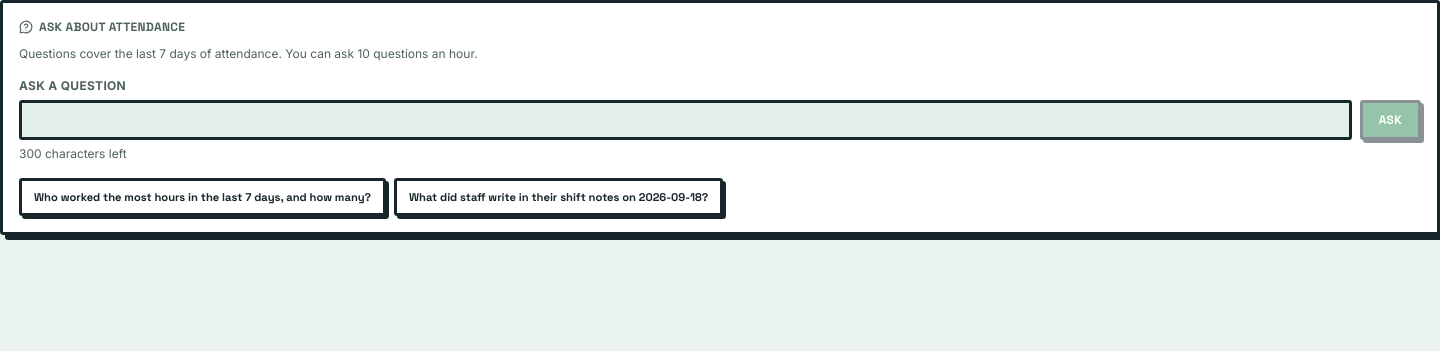
AskCard › renders an answer as plain text with its time and the AI note
Click the button "Who worked the most hours in the last 7 days, and how many?" at (202, 197), box [19,178,386,216]
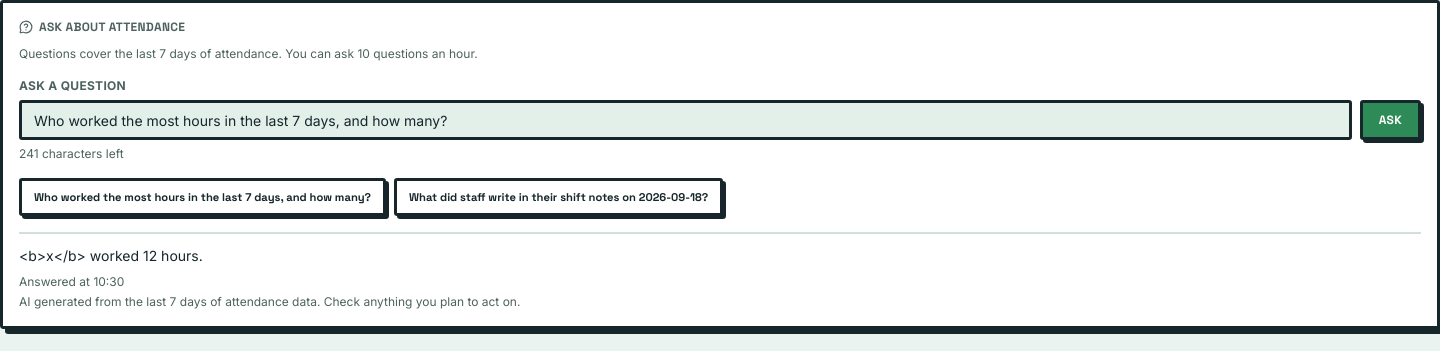
Check: the text "Answered at 10:30" is shown, box [19,274,124,289]
Check: the text "check anything you plan to act on" is shown, box [19,294,520,309]
